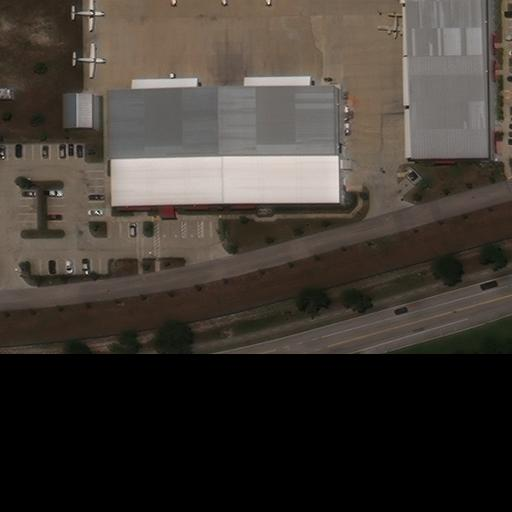Small Civil Transport: (70, 44, 106, 79), (70, 0, 106, 31), (377, 11, 414, 39)
